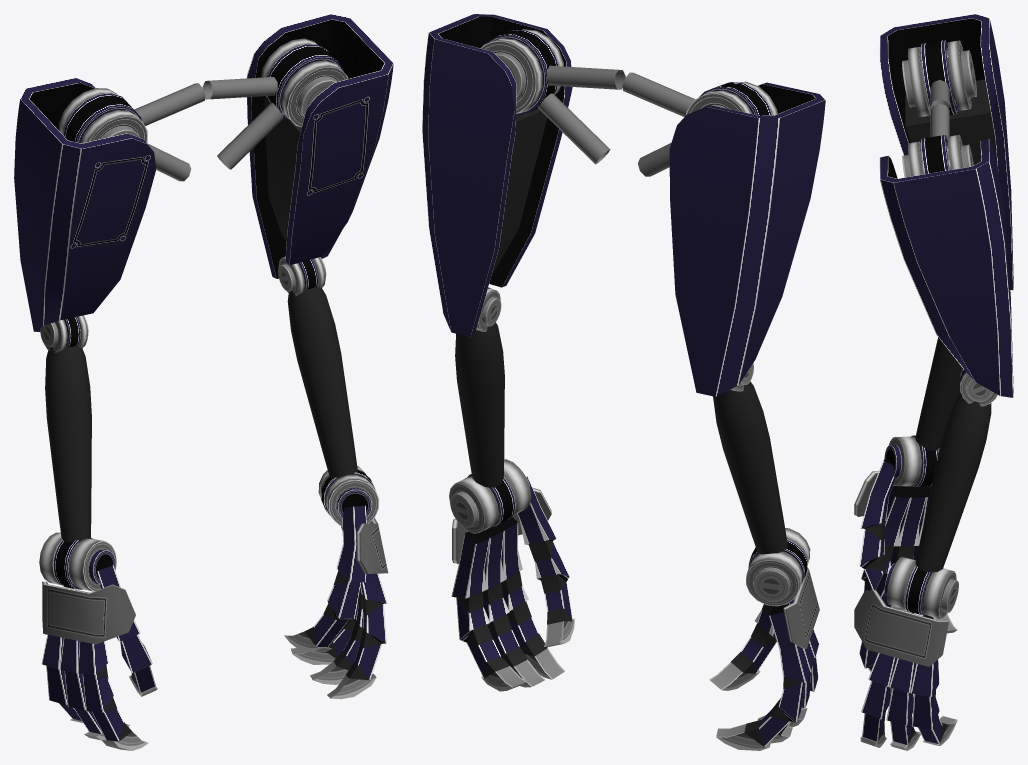
The model's file is arms_a.fbx.
3 renders of one model, left to right at view 1: azimuth 30°, elevation 25°; view 2: azimuth 150°, elevation 25°; view 3: azimuth 270°, elevation 25°, orthographic. The views are drawn at different scales.
Visible parts, largest first — view 1: ARMS_A; view 2: ARMS_A; view 3: ARMS_A.
Part boxes in pixels (x1,y1,x2,y2): ARMS_A: (14,14,393,750); ARMS_A: (422,14,825,750); ARMS_A: (854,14,1013,750).
Size of the model in its own units: 40.96 by 73.81 by 17.6.
